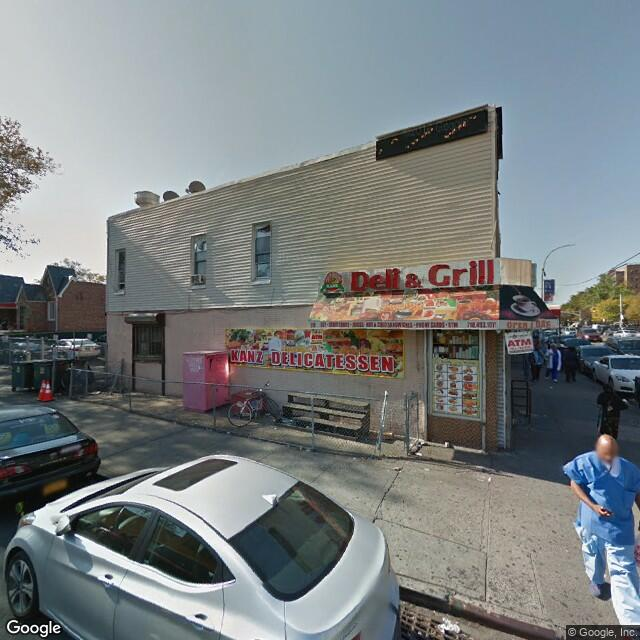litter: (434, 615, 464, 635), (390, 465, 403, 471)
